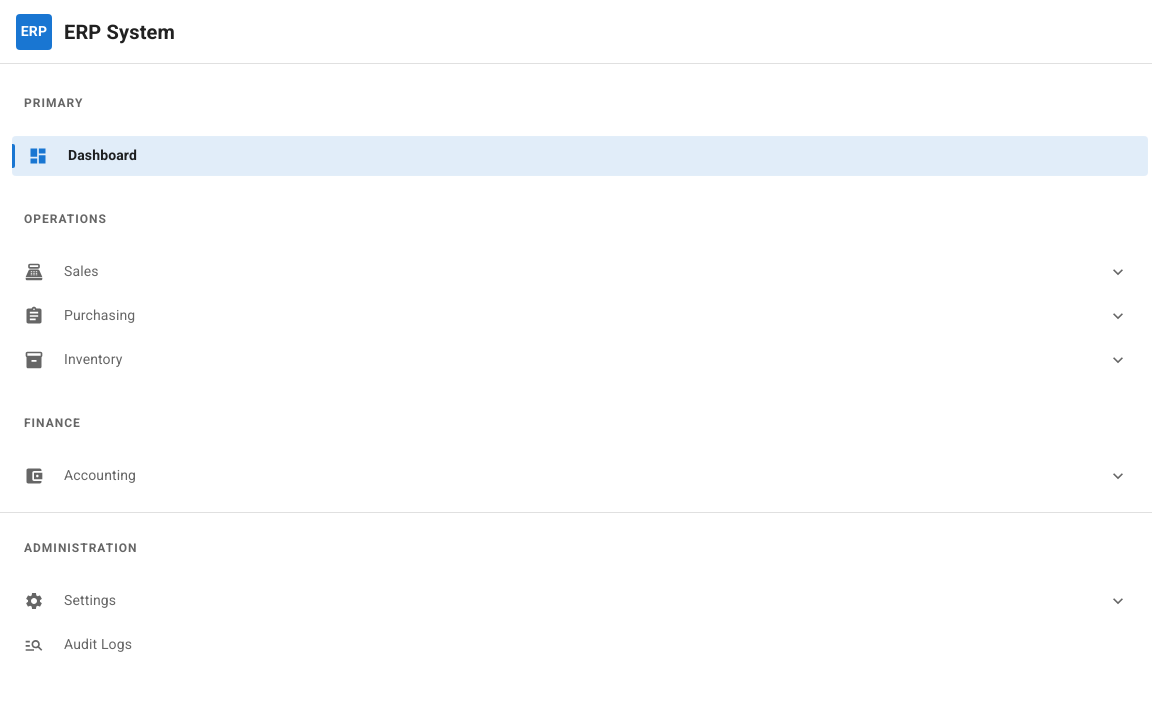
it: Sidebar › renders group labels inside Settings accordion when expanded
The width and height of the screenshot is (1152, 720).
Click the button "Settings" at point(90, 600), box [24, 591, 1128, 611]
(page scrolled)
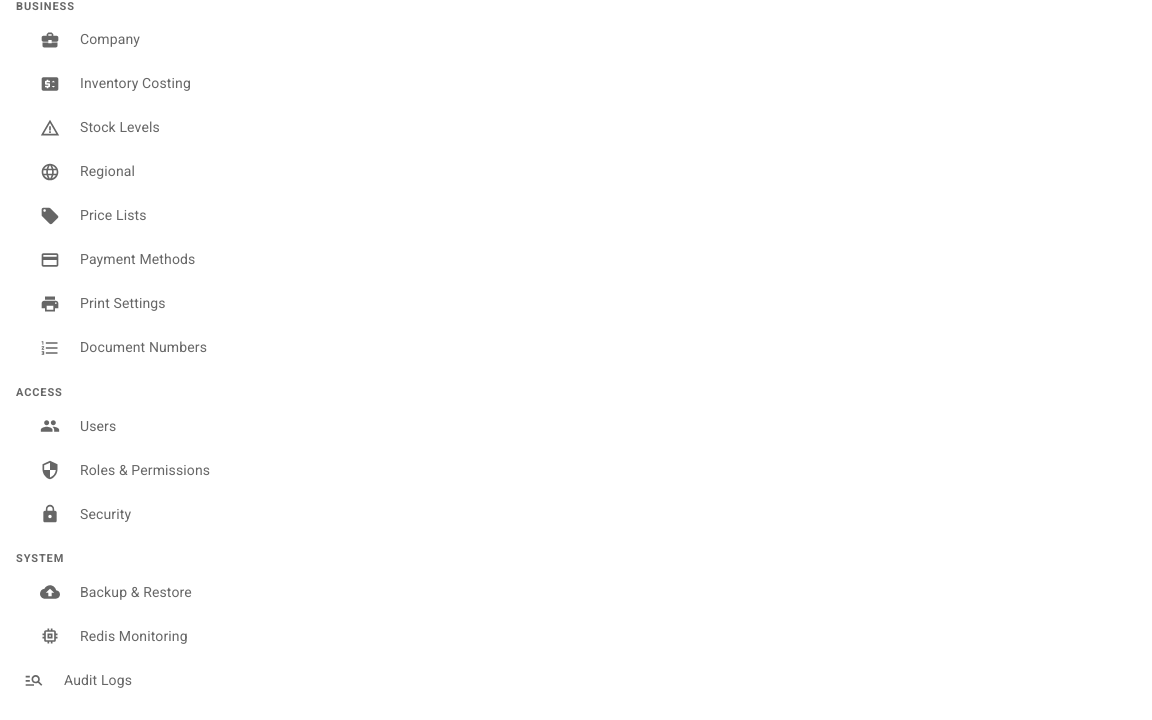
Expected: the text "Business" is shown, [16, 0, 75, 13]
Expected: the text "Access" is shown, [16, 386, 63, 399]
Expected: the text "System" is shown, [16, 552, 64, 565]
